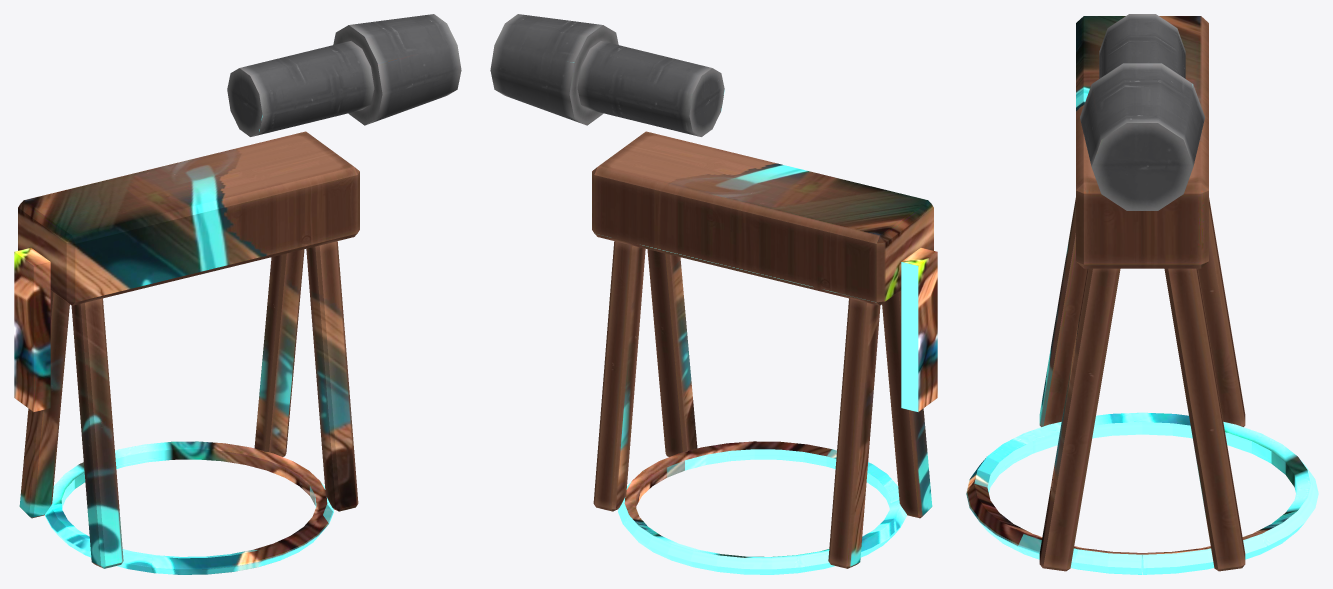
The model's file is water.glb.
3 renders of one model, left to right at view 1: azimuth 30°, elevation 25°; view 2: azimuth 150°, elevation 25°; view 3: azimuth 270°, elevation 25°, orthographic. The views are drawn at different scales.
Visible parts, largest first — view 1: water; view 2: water; view 3: water.
Boxes of the visible parts, <box> form: water: <box>14,14,461,574</box>; water: <box>490,14,937,574</box>; water: <box>966,14,1318,574</box>.
Size of the model in its own units: 1.49 by 1.52 by 0.9.
1 material, 1 textured.
